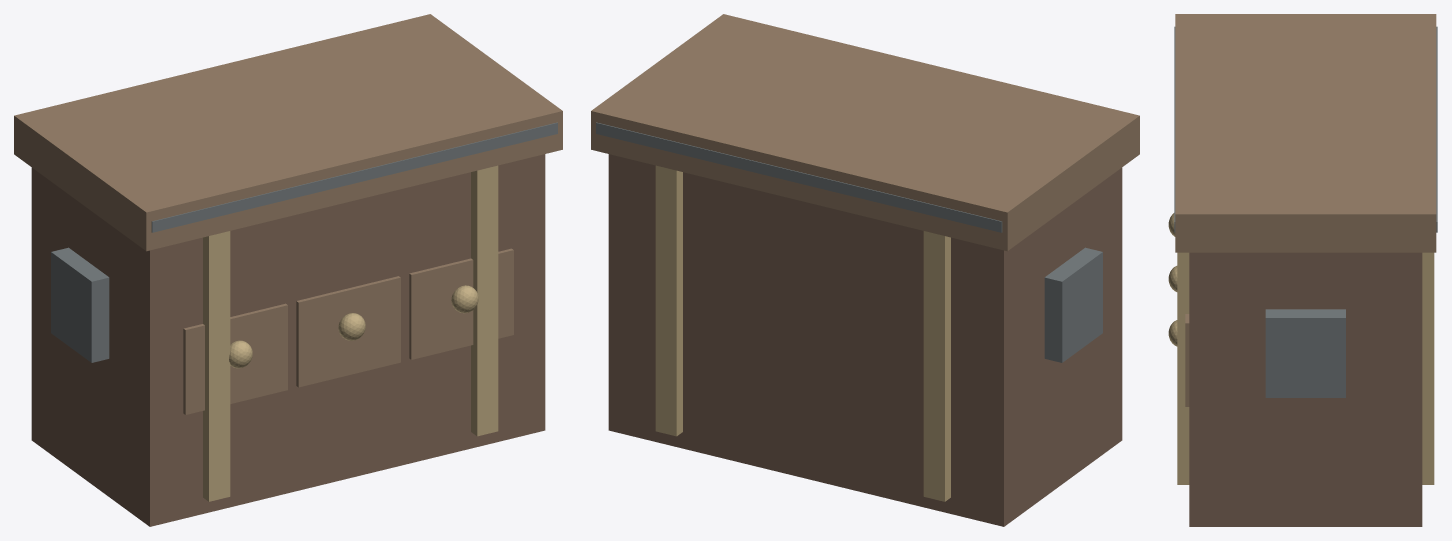
Rendered from medicine-chest.glb.
The picture shows the model from 3 angles, left to right: view 1: azimuth 30°, elevation 25°; view 2: azimuth 150°, elevation 25°; view 3: azimuth 270°, elevation 25°; orthographic projection.
Parts seen in each view (by area): view 1: chest-base, top-lid, drawer-0, corner--0.380.3, corner-0.380.3, drawer-0.32, drawer--0.32, handle--0.59, lid-straps0.305; view 2: chest-base, top-lid, corner--0.38-0.3, corner-0.38-0.3, handle--0.59, lid-straps-0.305; view 3: top-lid, chest-base, handle-0.59, corner-0.38-0.3, corner-0.380.3, drawer-0.32, lid-straps-0.305, lid-straps0.305.
Part boxes in pixels (<box>): chest-base: <box>31,154,545,526</box>; top-lid: <box>14,14,562,251</box>; drawer-0: <box>296,276,400,387</box>; corner--0.380.3: <box>203,231,230,501</box>; corner-0.380.3: <box>471,165,498,436</box>; drawer-0.32: <box>409,248,513,359</box>; drawer--0.32: <box>183,303,287,414</box>; handle--0.59: <box>51,247,109,362</box>; lid-straps0.305: <box>151,122,557,232</box>; chest-base: <box>608,154,1122,526</box>; top-lid: <box>591,14,1139,251</box>; corner--0.38-0.3: <box>923,231,950,501</box>; corner-0.38-0.3: <box>655,165,682,436</box>; handle--0.59: <box>1044,247,1102,362</box>; lid-straps-0.305: <box>596,122,1002,232</box>; top-lid: <box>1175,14,1436,252</box>; chest-base: <box>1189,252,1422,526</box>; handle-0.59: <box>1265,309,1345,397</box>; corner-0.38-0.3: <box>1422,252,1434,484</box>; corner-0.380.3: <box>1177,252,1189,484</box>; drawer-0.32: <box>1185,314,1189,406</box>; lid-straps-0.305: <box>1436,26,1437,232</box>; lid-straps0.305: <box>1174,26,1175,232</box>.
Size of the model in its own units: 1.23 by 0.8725 by 0.6695.
